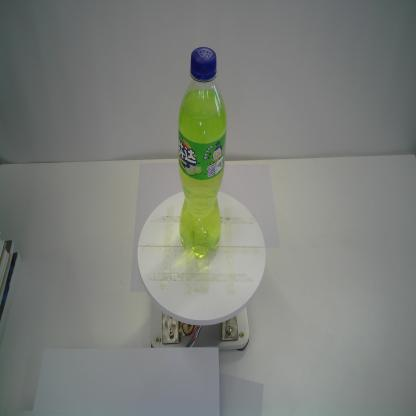Drink: (176, 44, 228, 262)
